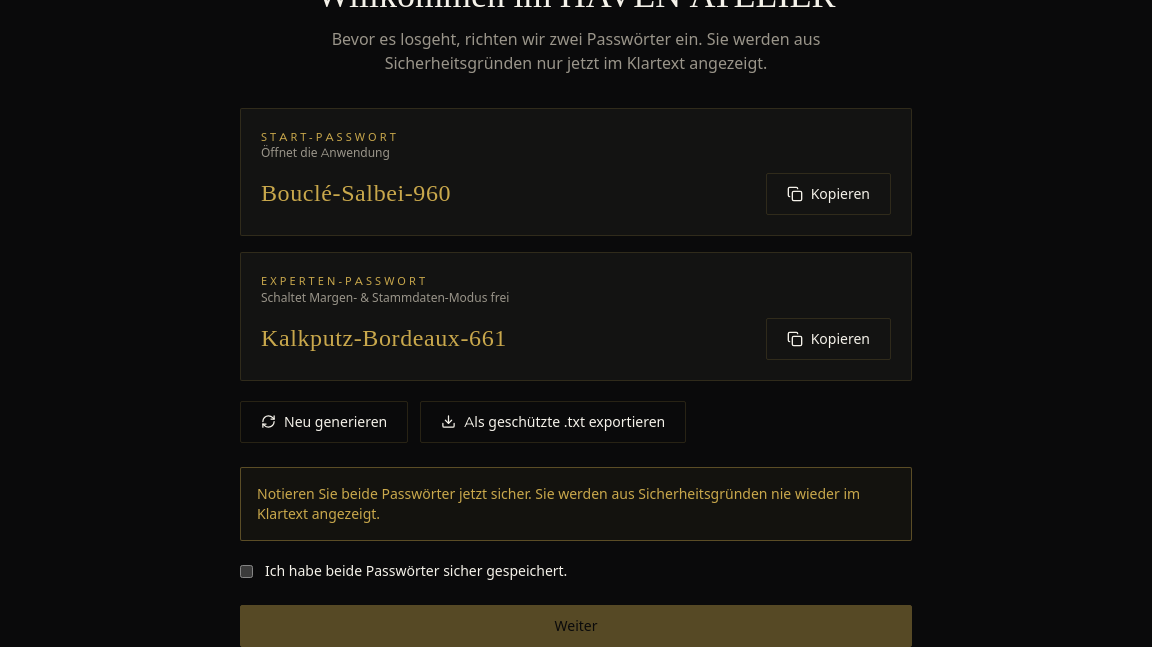
Test: Integration — Erweiterung 4: Showcase + realistische 2D-Ansicht › Showcase laden, Raum öffnen, auf „Realistische Ansicht" umschalten
Click the checkbox with test id "confirm-pw" at (246, 571), box x1=240 y1=564 x2=253 y2=578
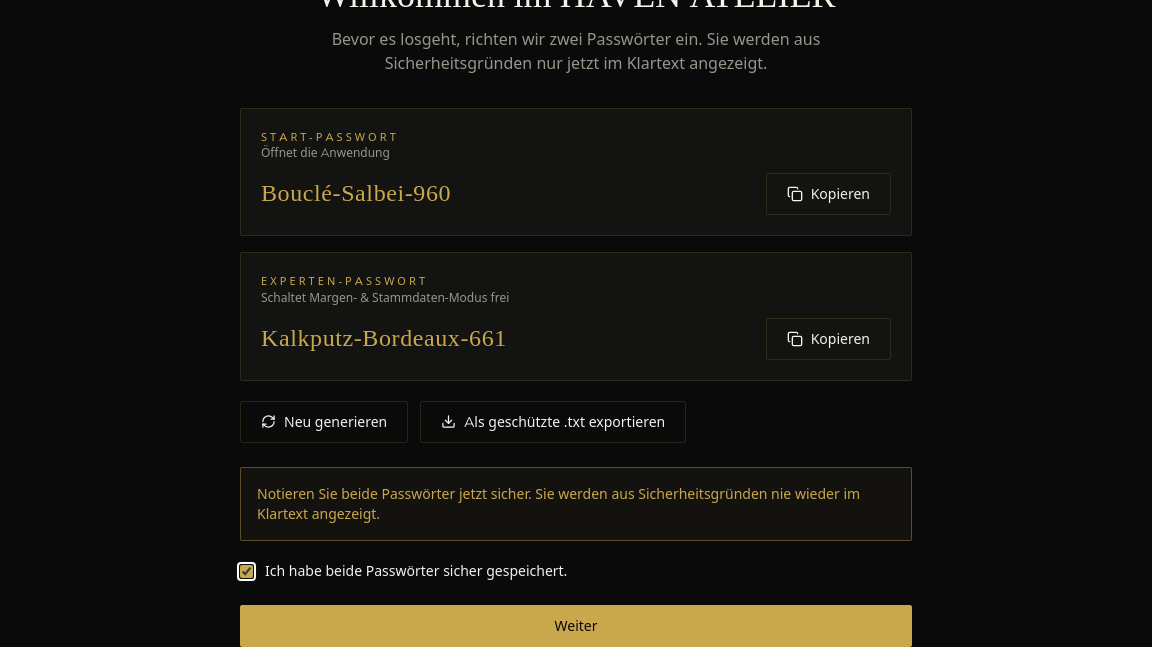
Click the button with test id "setup-continue" at (576, 626), box x1=240 y1=604 x2=912 y2=646
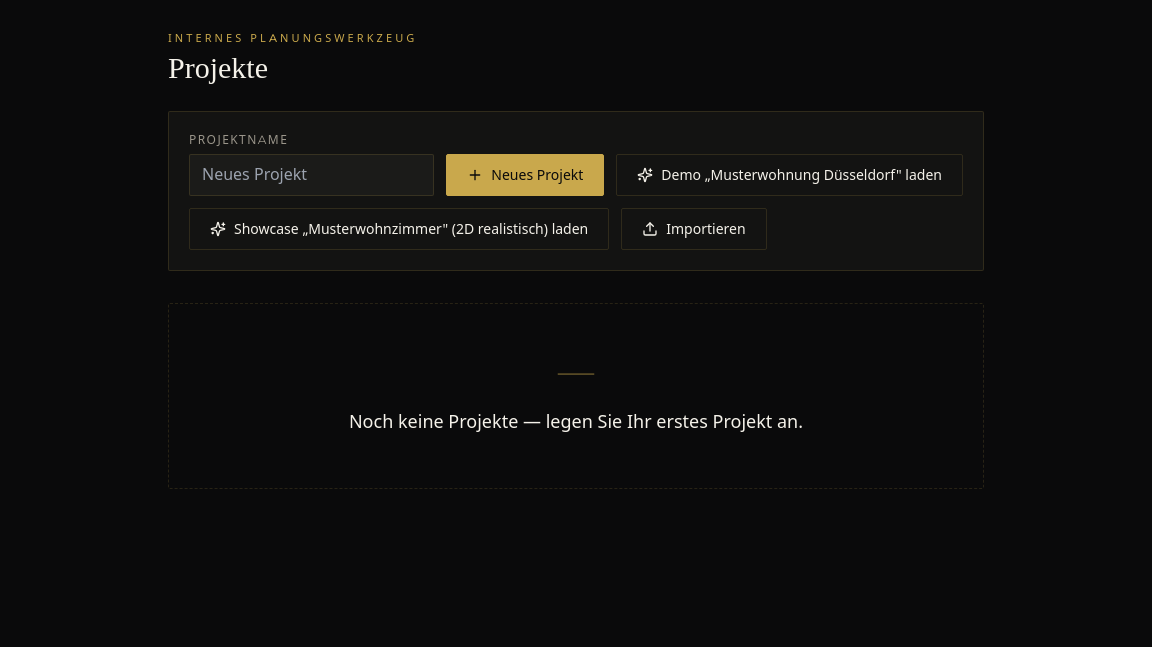
Click the button with test id "seed-showcase" at (399, 228), box x1=189 y1=208 x2=609 y2=250
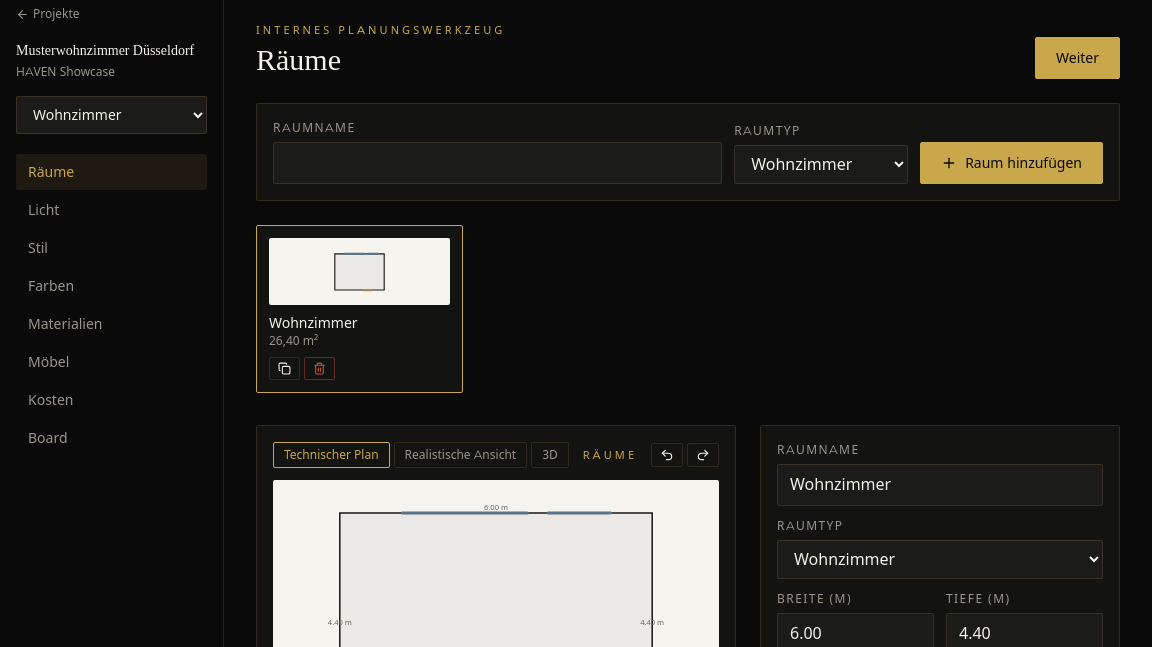
# Raum-Modul (Standardansicht beim Öffnen)
Click the button with test id "nav-rooms" at (112, 172), box x1=16 y1=154 x2=207 y2=190
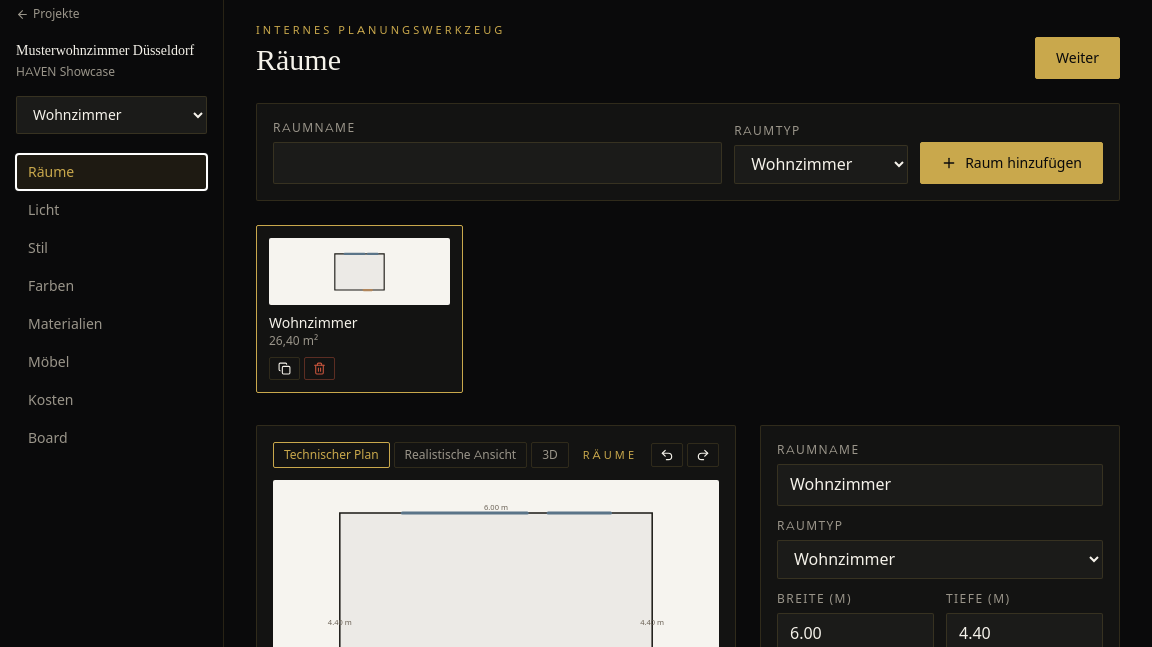
# Auf realistische Ansicht umschalten
Click the button with test id "plan-realistisch" at (460, 455), box x1=394 y1=442 x2=527 y2=468
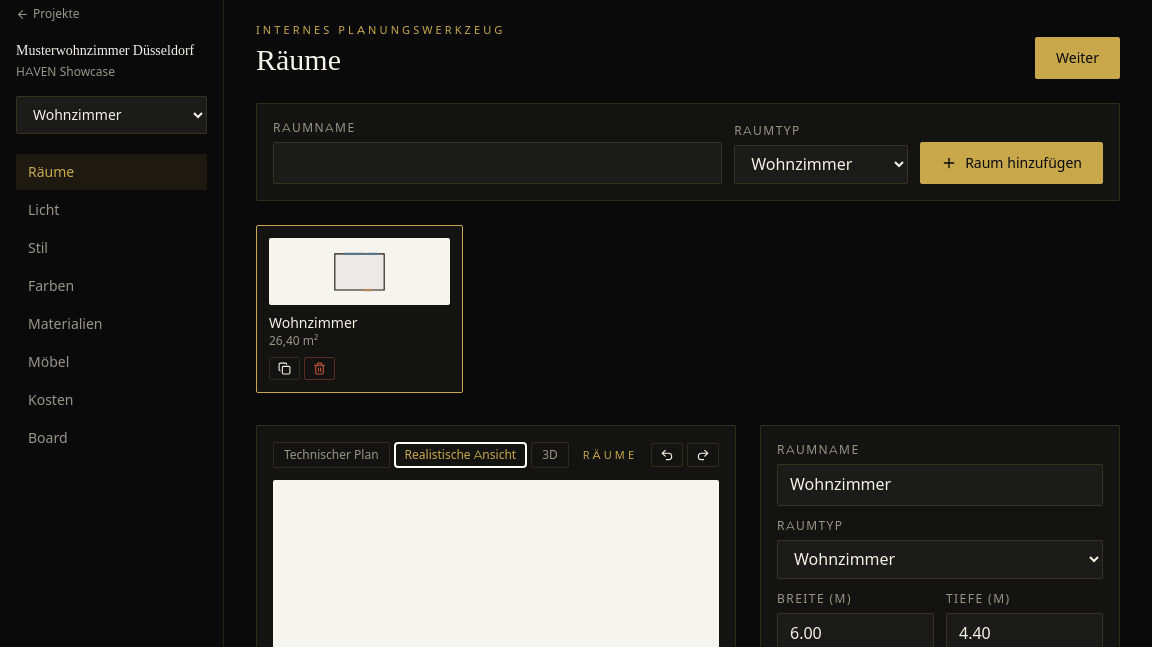
# Zurück auf technisch
Click the button with test id "plan-technisch" at (331, 455), box x1=273 y1=442 x2=390 y2=468
(page scrolled)
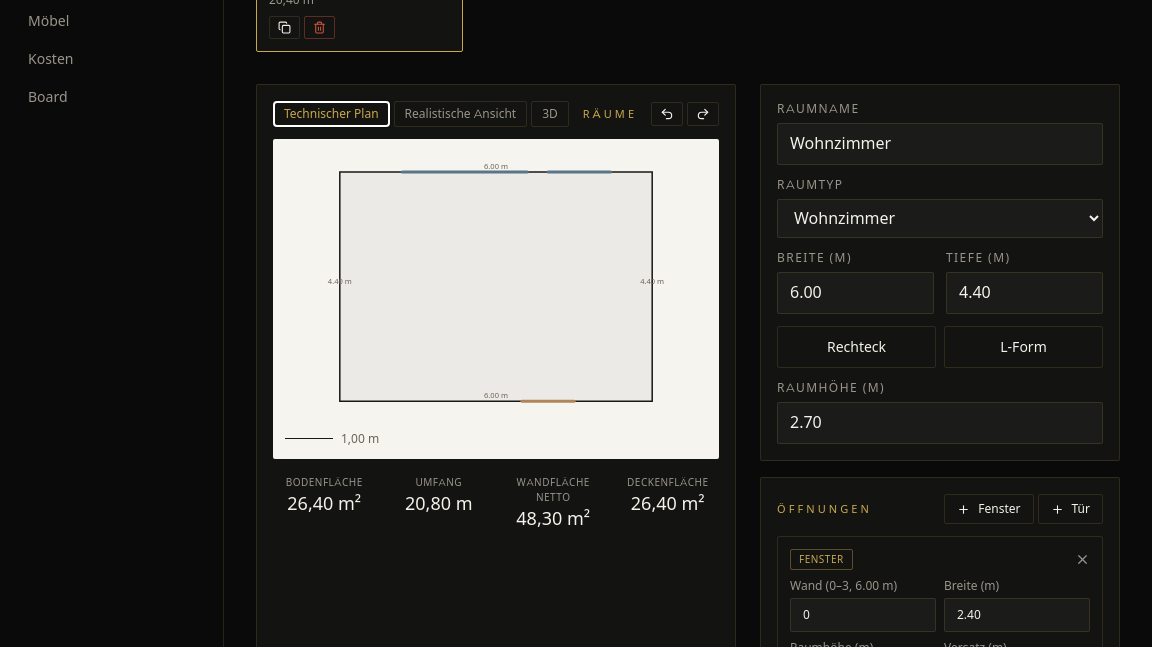
Expected: the icon with test id "floorplan-svg" showing "6.00 m 4.40 m 6.00 m 4.40 m" is shown, x1=285 y1=151 x2=707 y2=423
